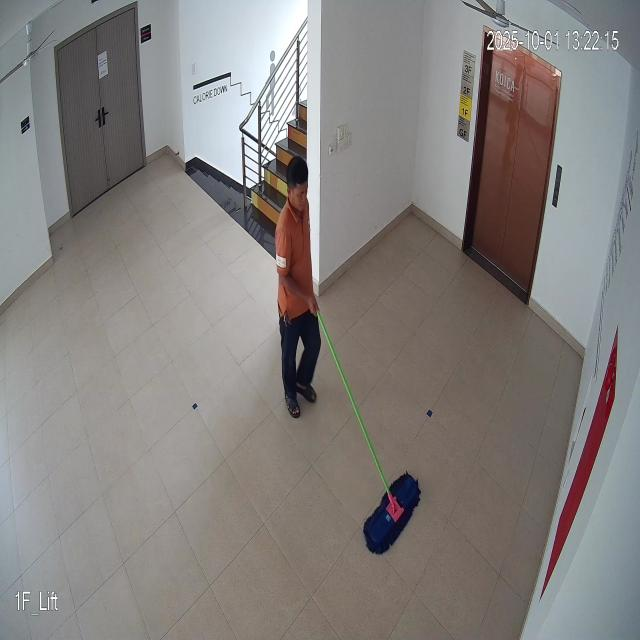face: (282, 156, 312, 218)
